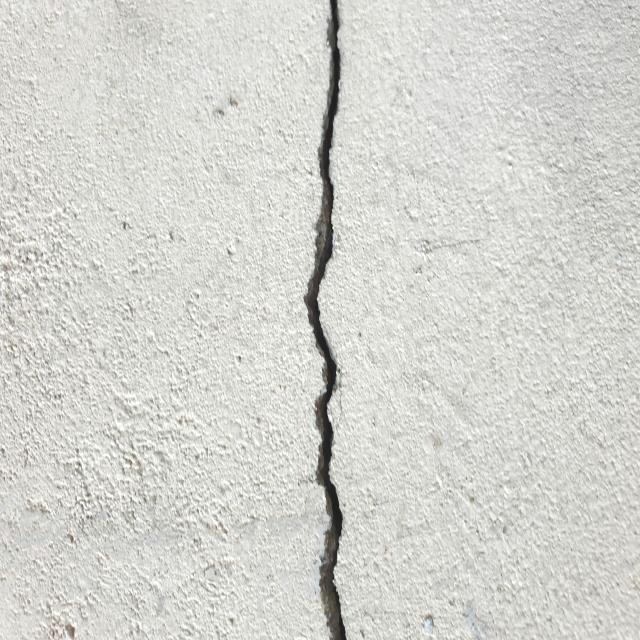SurfaceCrack: (255, 1, 406, 640)
